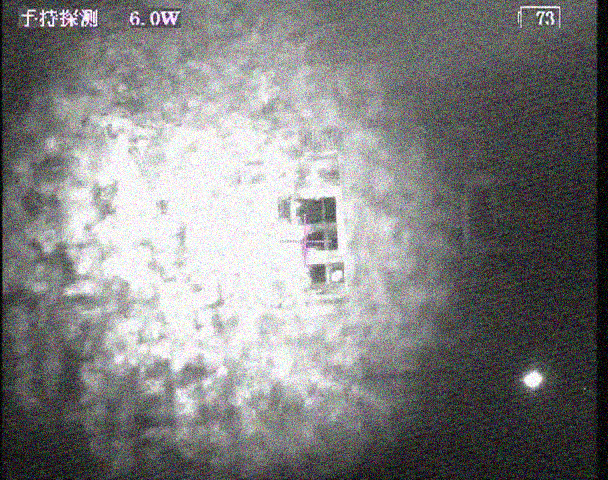my: (328, 269, 343, 285)
